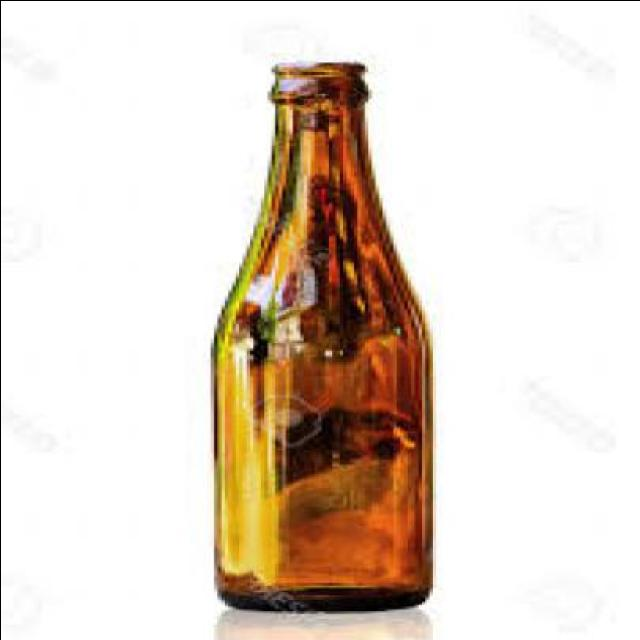kaca: (212, 60, 438, 610)
